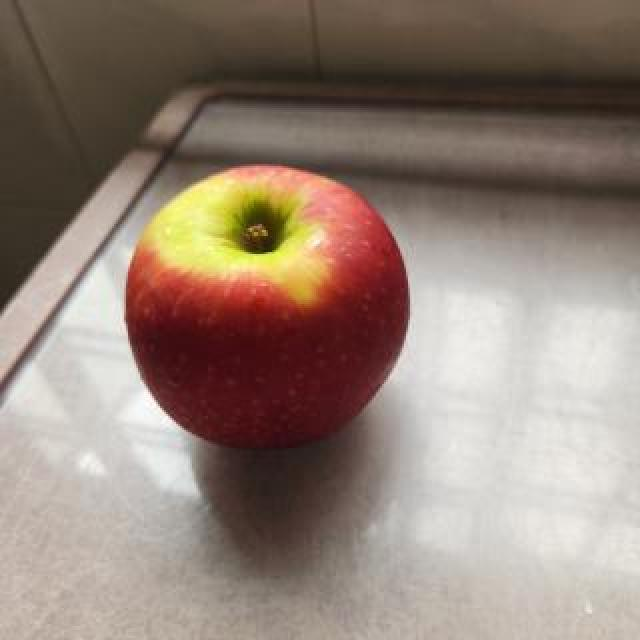Fresh Apple: (124, 173, 409, 460)
